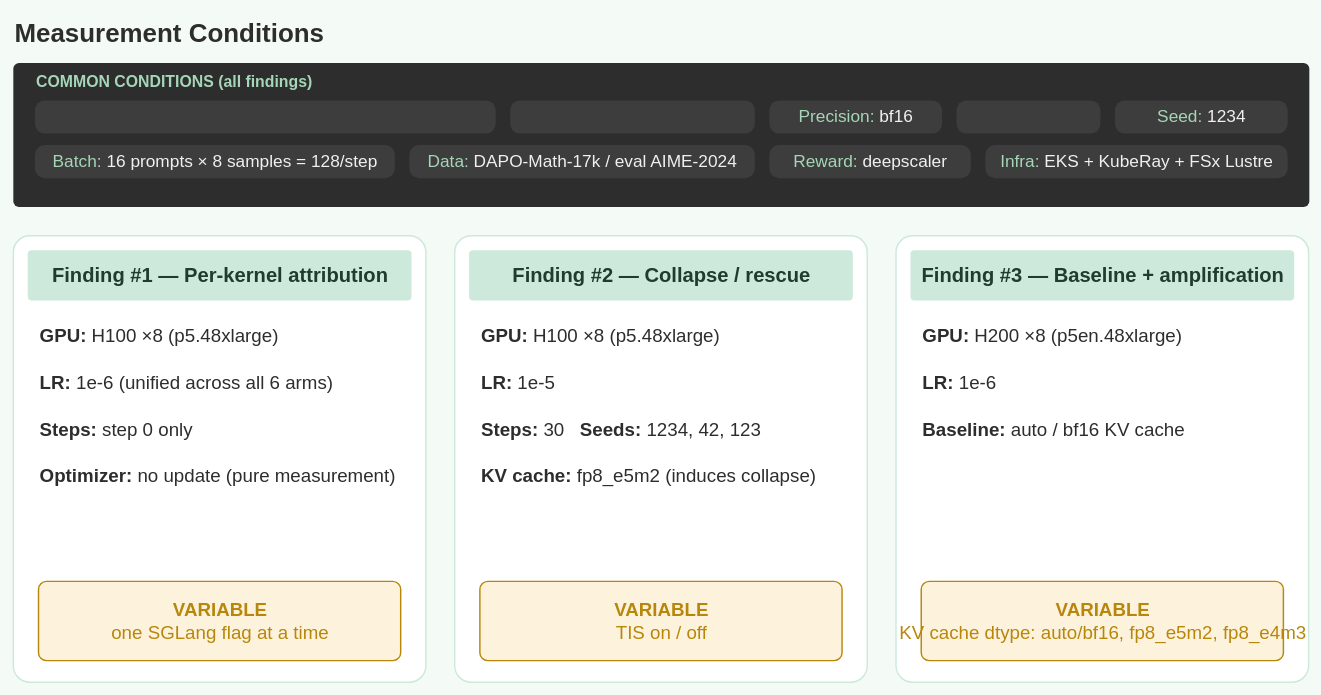
The diagram is 1321 pixels wide and 695 high, and some of its shapes have lost their labels. The shapes that lost their labels are listed below. From the top down, each one's centre as x and y in pixels, then its label:
(x=265, y=116): Framework: miles (SGLang 0.5.16 + Megatron-LM + Ray)
(x=632, y=116): Model: Qwen3-4B dense
(x=1028, y=116): Dropout: 0
